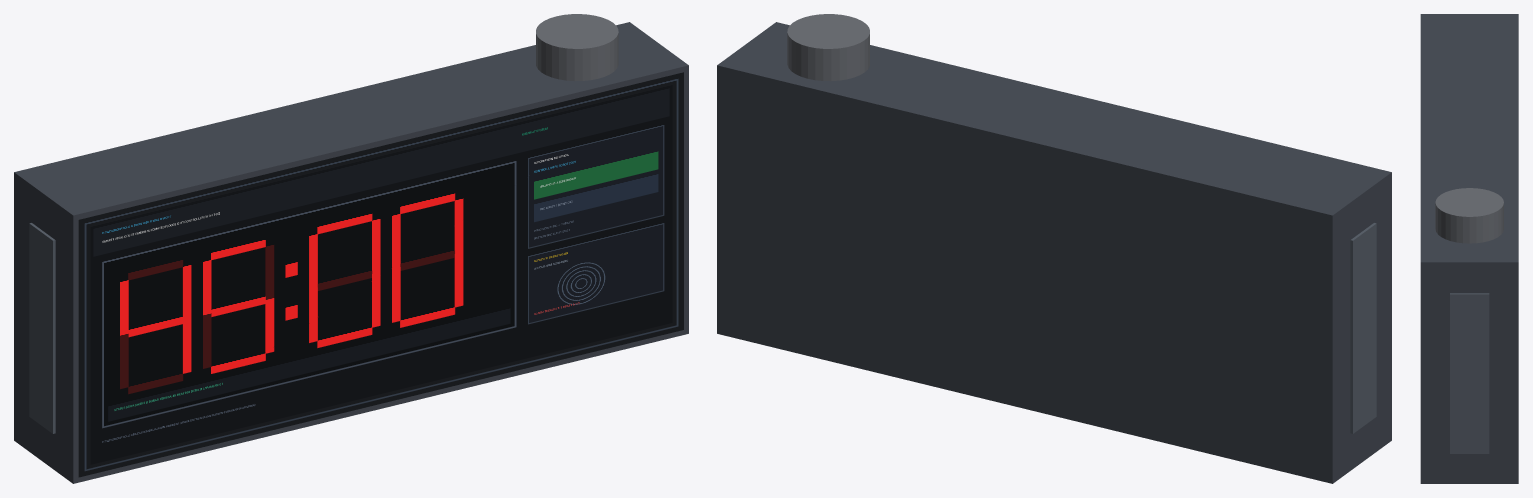
File: futsal-timer.glb
3 views of the same model, side by side, from view 1: azimuth 30°, elevation 25°; view 2: azimuth 150°, elevation 25°; view 3: azimuth 270°, elevation 25° (orthographic). The views are drawn at different scales.
Parts seen in each view (by area): view 1: Plane, Cube, Cube.001, Cylinder; view 2: Cube, Cube.001, Cylinder; view 3: Cube, Cube.002, Cylinder.
Boxes of the visible parts, x1,y1,x2,y2 form: Plane: (78,72,683,477); Cube: (14,22,688,483); Cube.001: (29,223,55,433); Cylinder: (536,14,618,81); Cube: (717,22,1391,483); Cube.001: (1350,223,1376,433); Cylinder: (787,14,869,81); Cube: (1420,14,1518,483); Cube.002: (1450,293,1489,453); Cylinder: (1435,188,1503,243).
Bounding box in the file's own units: 0.605 × 0.28 × 0.1005.
4 materials, 1 textured.
